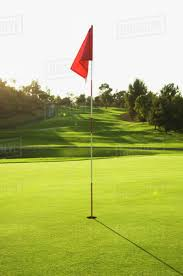Flag: (69, 26, 94, 79)
